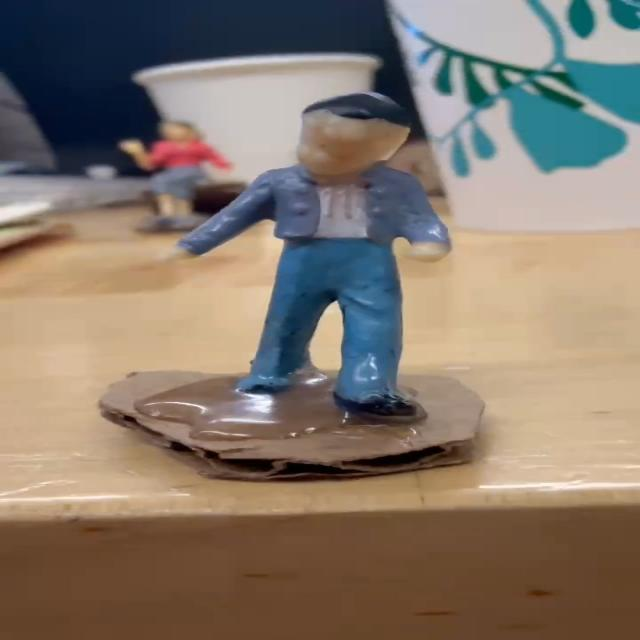Authorized: (133, 81, 460, 423)
